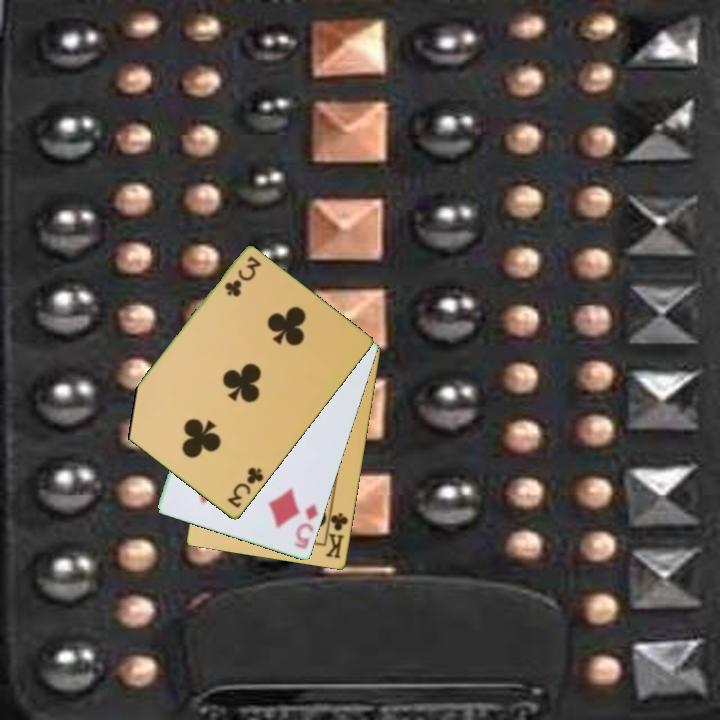3c: (224, 464, 267, 511), (221, 253, 264, 300)
5d: (291, 501, 322, 552)
Kc: (322, 505, 351, 561)
